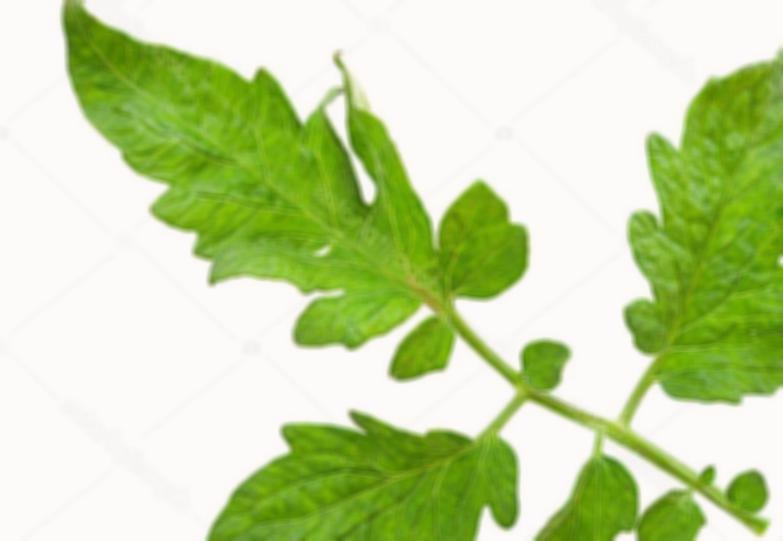Tomato leaf: (21, 0, 563, 370), (604, 43, 783, 400), (131, 423, 522, 541), (481, 435, 644, 541)
